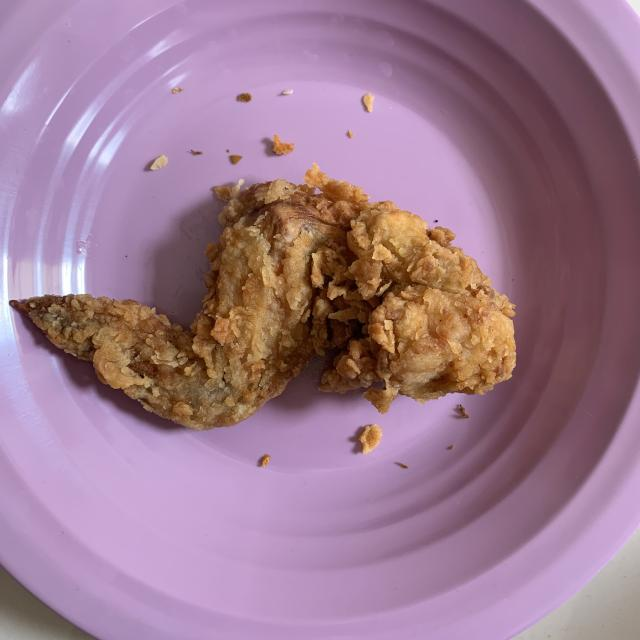Frango: (26, 176, 515, 428)
